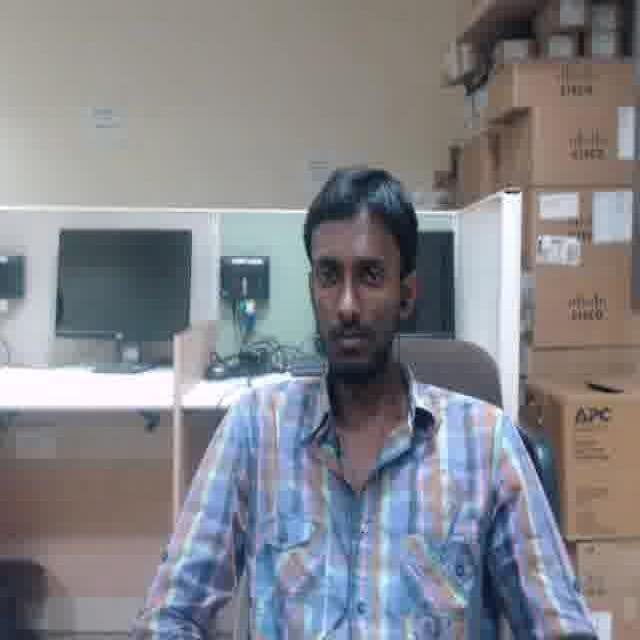Engaged: (309, 215, 398, 368)
